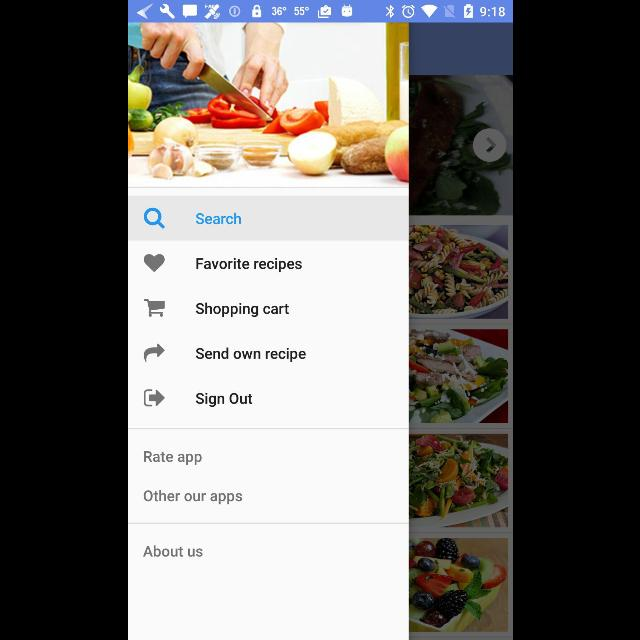icon: (143, 208, 165, 230), (143, 343, 165, 362), (143, 389, 165, 407), (142, 299, 164, 317), (144, 254, 164, 272)
image: (128, 23, 408, 187)
panel: (128, 24, 408, 640)
text: (194, 347, 306, 363), (142, 489, 242, 505), (195, 302, 289, 318), (195, 258, 302, 272), (194, 392, 252, 408), (143, 450, 201, 466), (142, 546, 204, 558), (195, 212, 241, 225)
uppertaskbar: (128, 1, 512, 23)
